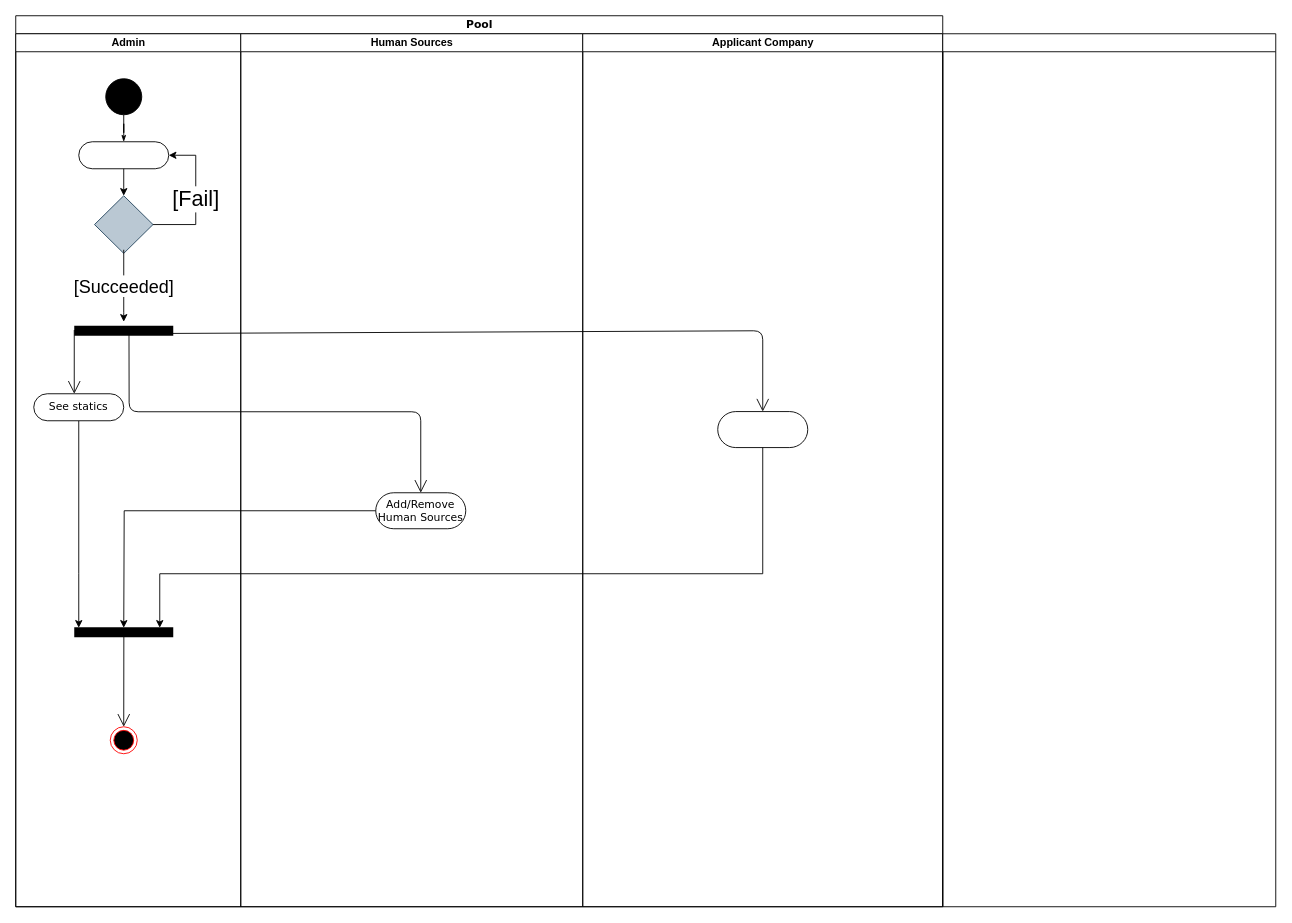
Image size: 1292x923. Some labels were removed from this diagram. Each missing label, with the centre of its shape:
Add/Remove company: the point at 762,429
Candidate: the point at 1109,470
Login: the point at 123,155
